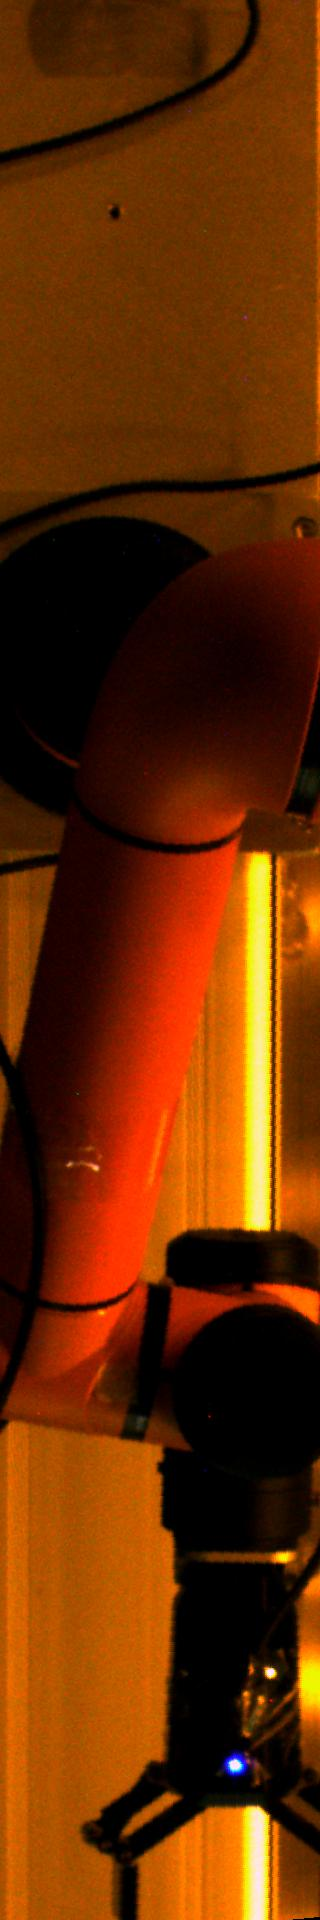keyPoint_1: (219, 1749, 250, 1778)
keyPoint_2: (99, 198, 129, 228)
